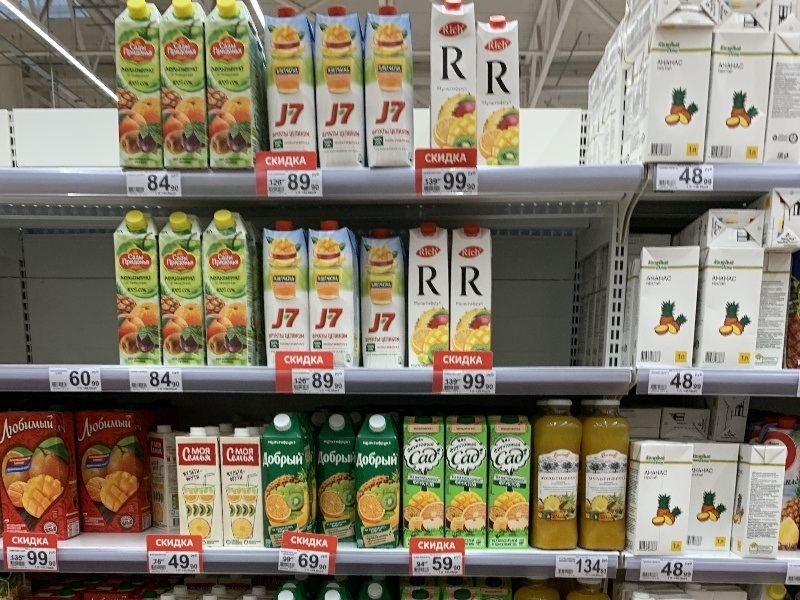juice: (194, 2, 269, 179), (1, 406, 86, 547), (356, 1, 424, 174), (110, 1, 175, 178), (75, 400, 157, 540), (154, 1, 217, 179), (262, 3, 325, 180), (108, 204, 173, 375), (195, 206, 262, 371), (309, 3, 372, 174), (350, 221, 418, 374), (152, 206, 213, 372), (467, 8, 527, 171), (427, 1, 484, 172), (302, 219, 363, 367), (348, 413, 408, 555), (438, 410, 495, 555), (403, 221, 458, 371), (309, 406, 364, 553), (482, 409, 538, 551), (261, 411, 314, 555), (400, 408, 446, 550)
